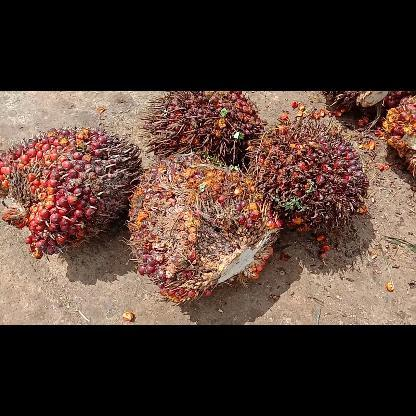TBS masak: (124, 154, 282, 304), (0, 127, 138, 257), (247, 113, 369, 230), (140, 90, 264, 162)
